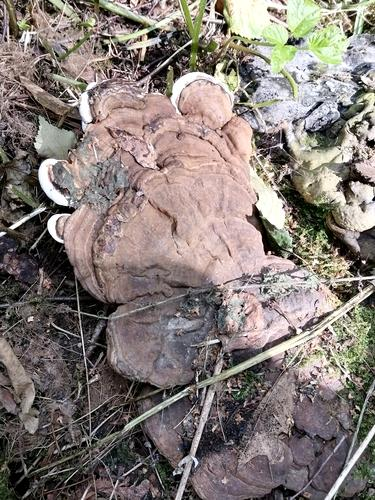Ganoderma - Fruit Body: (38, 71, 365, 498)
